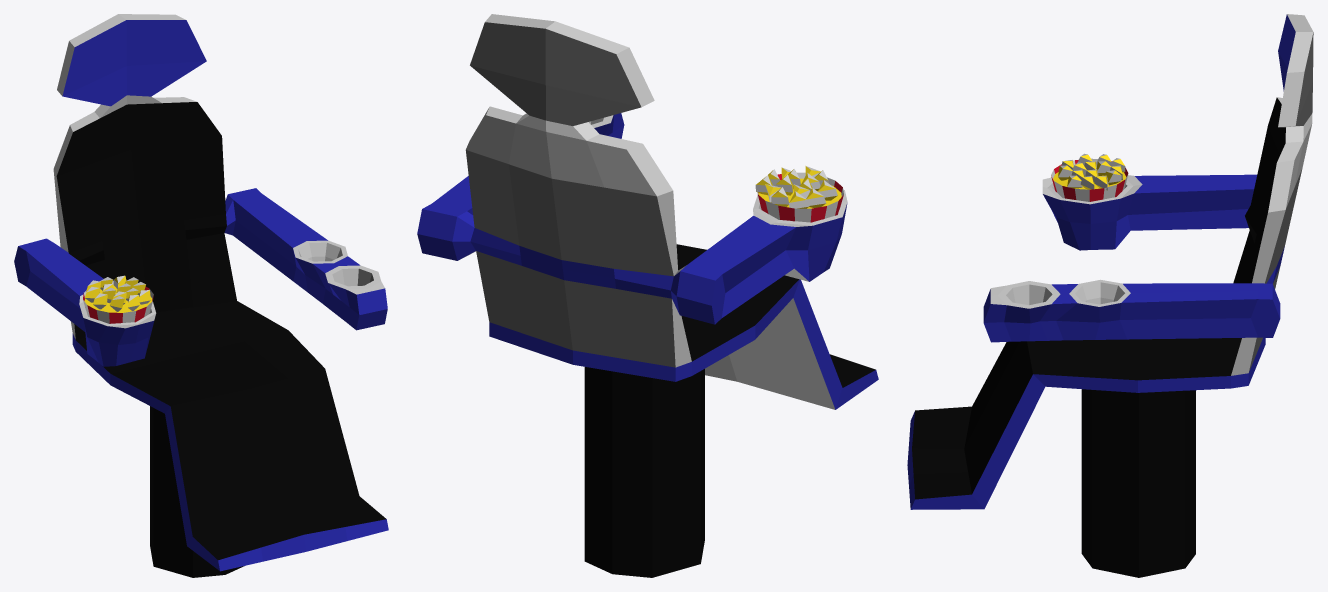
The model's file is spaceship-chair.glb.
3 views of the same model, side by side, from view 1: azimuth 30°, elevation 25°; view 2: azimuth 150°, elevation 25°; view 3: azimuth 270°, elevation 25° (orthographic). The views are drawn at different scales.
Parts seen in each view (by area): view 1: Plane.026; view 2: Plane.026; view 3: Plane.026.
Part boxes in pixels (x1,y1,x2,y2): Plane.026: [14, 14, 388, 577]; Plane.026: [417, 14, 878, 577]; Plane.026: [907, 14, 1313, 577].
Bounding box in the file's own units: 1.95 × 3.37 × 2.38.
